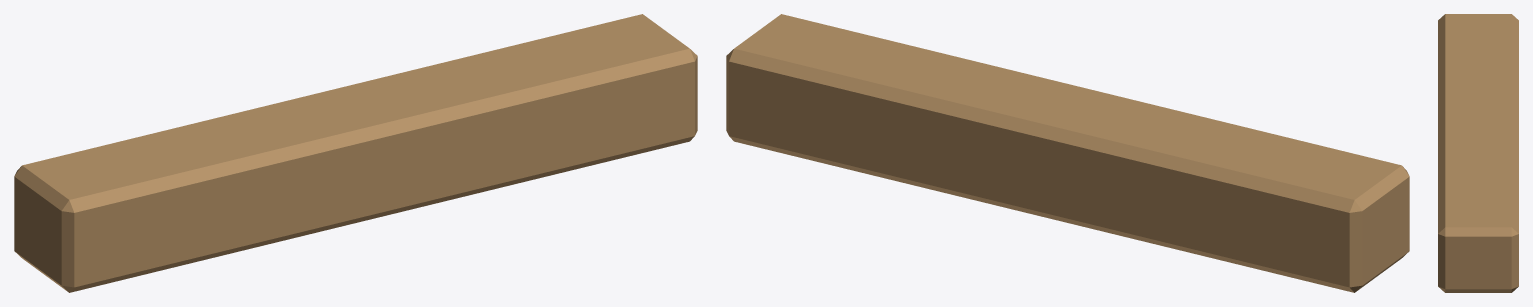
Rendered from RoofBalk.fbx.
3 views of the same model, side by side, from view 1: azimuth 30°, elevation 25°; view 2: azimuth 150°, elevation 25°; view 3: azimuth 270°, elevation 25° (orthographic). The views are drawn at different scales.
Parts seen in each view (by area): view 1: WallWoodV.179; view 2: WallWoodV.179; view 3: WallWoodV.179.
Part boxes in pixels (x1,y1,x2,y2): WallWoodV.179: [14, 14, 697, 292]; WallWoodV.179: [726, 14, 1409, 292]; WallWoodV.179: [1438, 14, 1518, 292].
Bounding box in the file's own units: 2.42 × 0.3379 × 0.3783.
